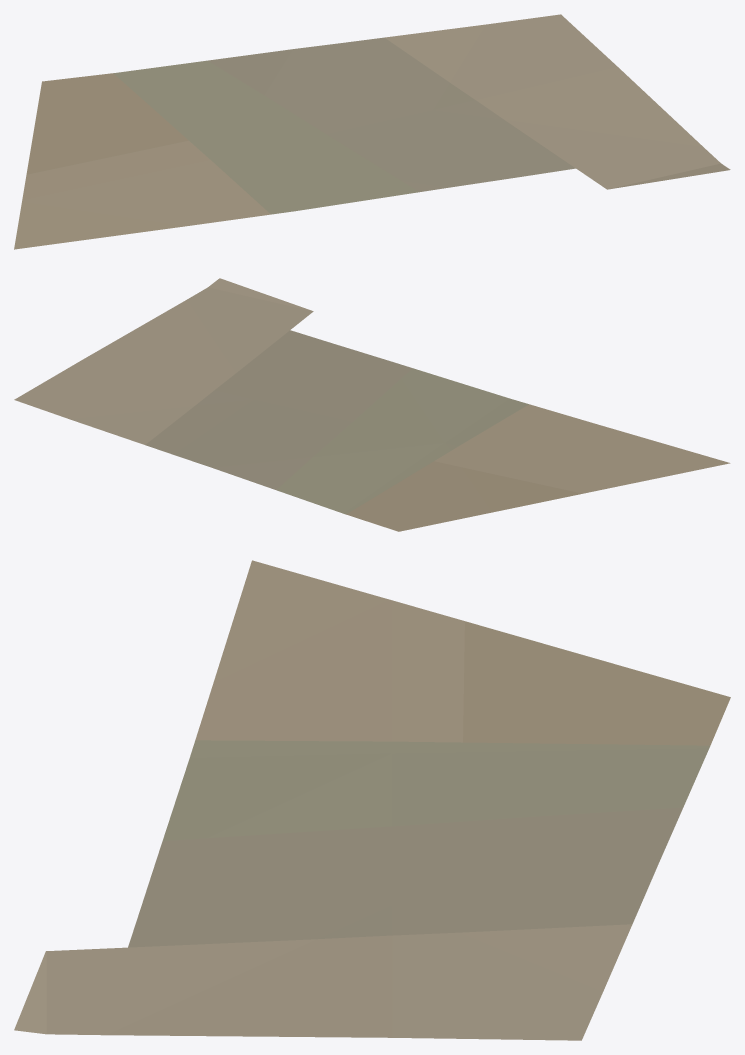
File: farm_-32_-27_soil.glb
The picture shows the model from 3 angles, top to bottom: view 1: azimuth 30°, elevation 25°; view 2: azimuth 150°, elevation 25°; view 3: azimuth 270°, elevation 25°; orthographic projection. The views are drawn at different scales.
Parts seen in each view (by area): view 1: geometry_0; view 2: geometry_0; view 3: geometry_0.
Boxes of the visible parts, box(x1,y1,x2,y2) form: geometry_0: box(14, 14, 730, 249); geometry_0: box(14, 278, 730, 531); geometry_0: box(14, 560, 730, 1040).
Bounding box in the file's own units: 256 × 6.32 × 166.
